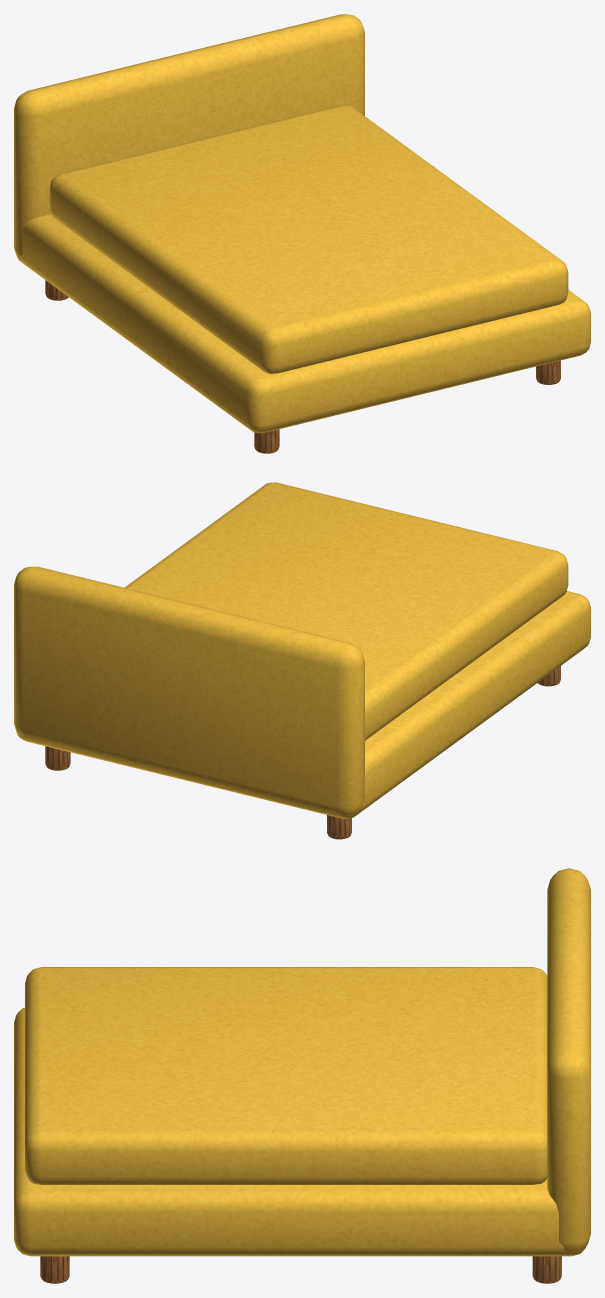
File: pastel_bed_03.glb
3 views of the same model, one above another, from view 1: azimuth 30°, elevation 25°; view 2: azimuth 150°, elevation 25°; view 3: azimuth 270°, elevation 25° (orthographic). The views are drawn at different scales.
Visible parts, largest first — view 1: pastel_bed_03; view 2: pastel_bed_03; view 3: pastel_bed_03.
Boxes of the visible parts, x1,y1,x2,y2 form: pastel_bed_03: (14,14,590,453); pastel_bed_03: (14,482,590,839); pastel_bed_03: (14,868,590,1283).
Bounding box in the file's own units: 1.72 × 0.96 × 2.11.
3 materials, 3 textured.
